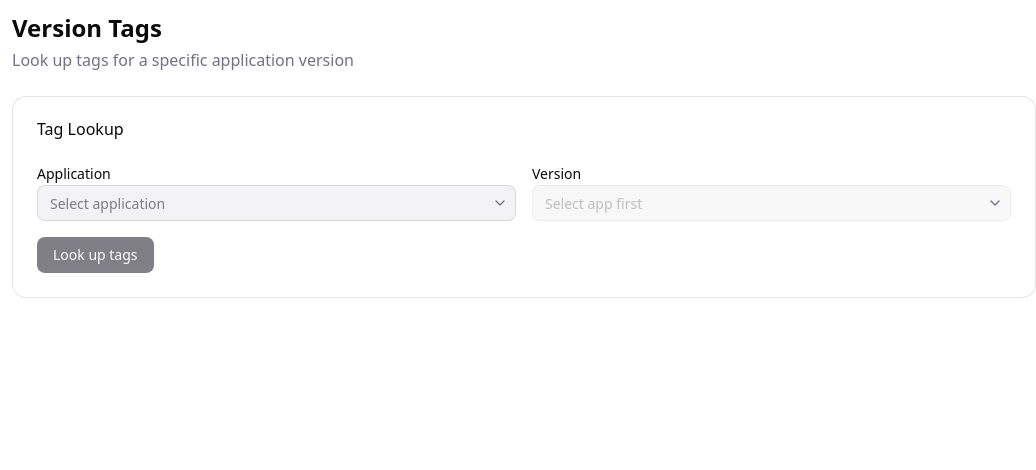
Scenario: TagsPage › should show tags after submitting lookup form
Step 1. Click the dropdown with placeholder "Select application" → coordinates (276, 203), box [37,185,516,221]
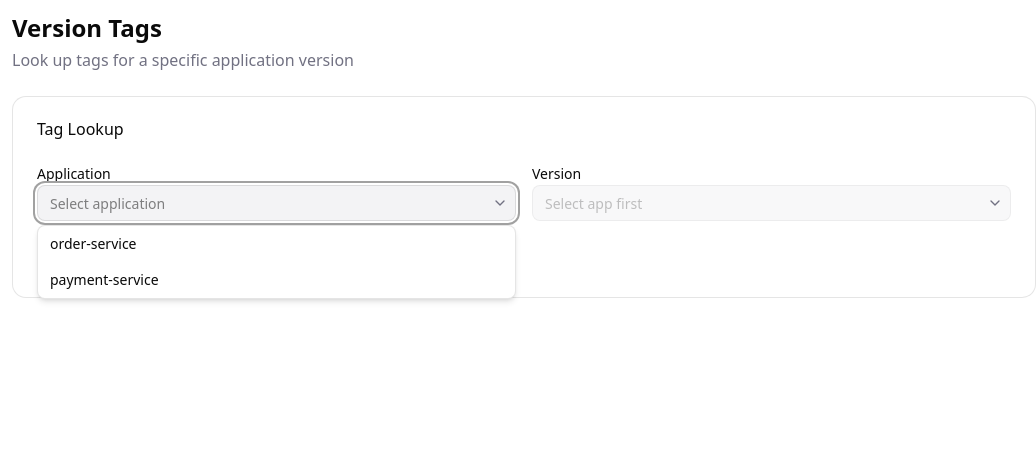
Step 2. Click the option "order-service" → coordinates (93, 244), box [50,234,136,253]
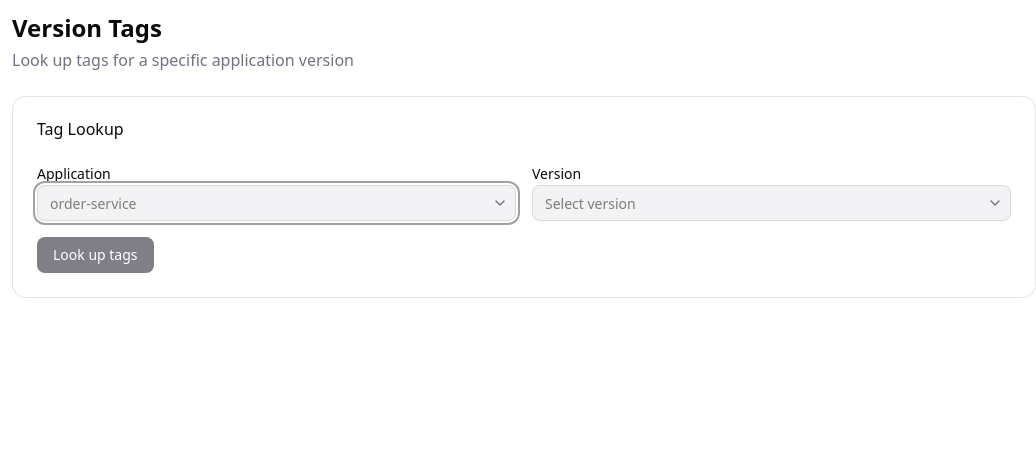
Step 3. Click the dropdown with placeholder "Select version" → coordinates (772, 203), box [532,185,1011,221]
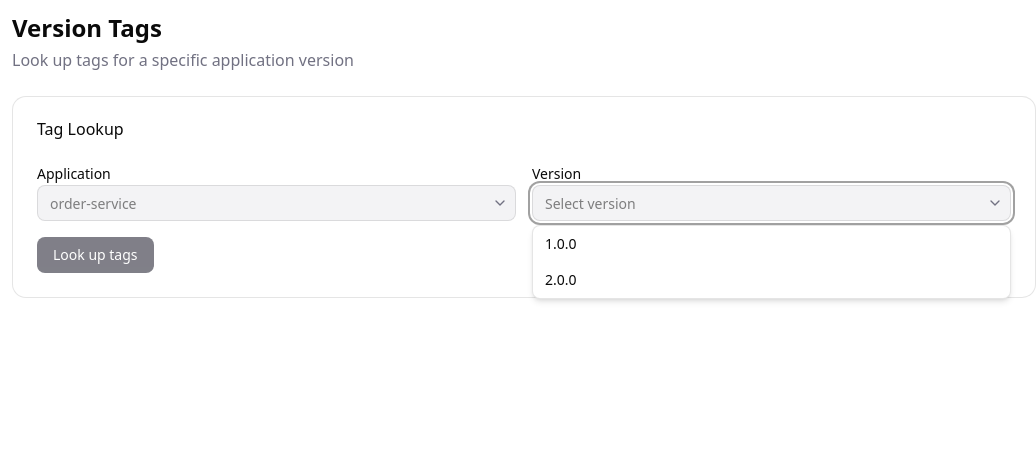
Step 4. Click the option "1.0.0" → coordinates (561, 244), box [545,234,576,253]
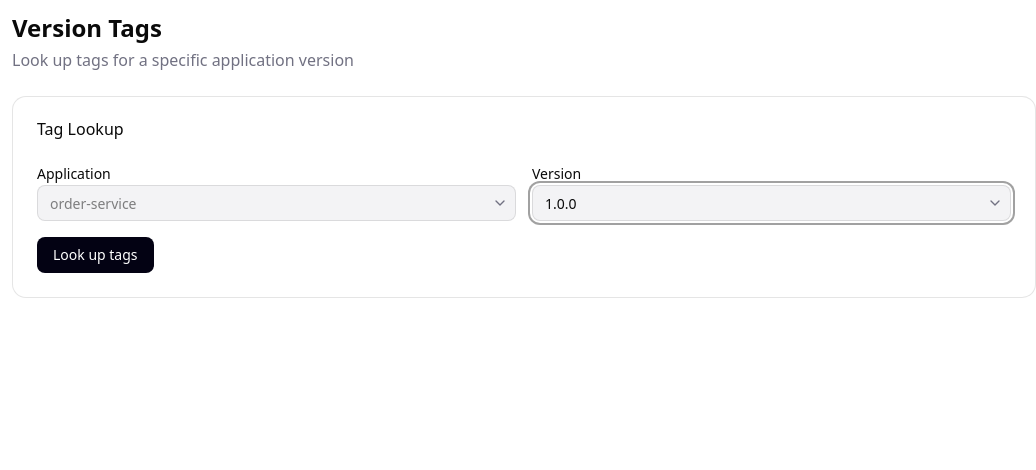
Step 5. Click the button "Look up tags" → coordinates (95, 255), box [37,237,154,273]
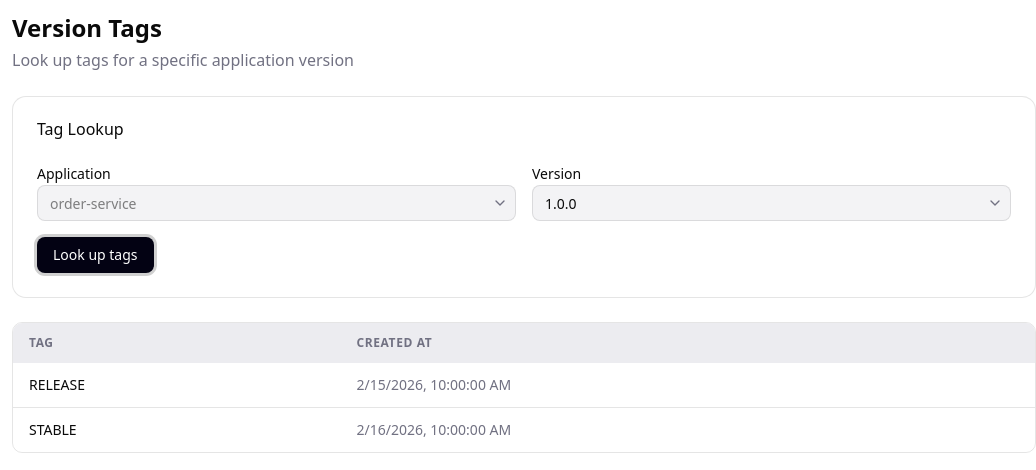
Check: the text "RELEASE" is shown, box [29,375,85,394]
Check: the text "STABLE" is shown, box [29,420,77,439]
